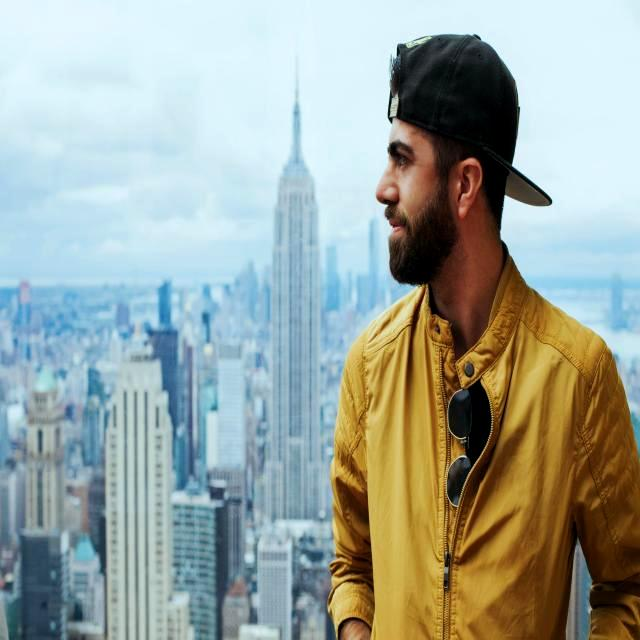no_hard_hat: (388, 34, 551, 205)
person: (329, 35, 640, 639)
